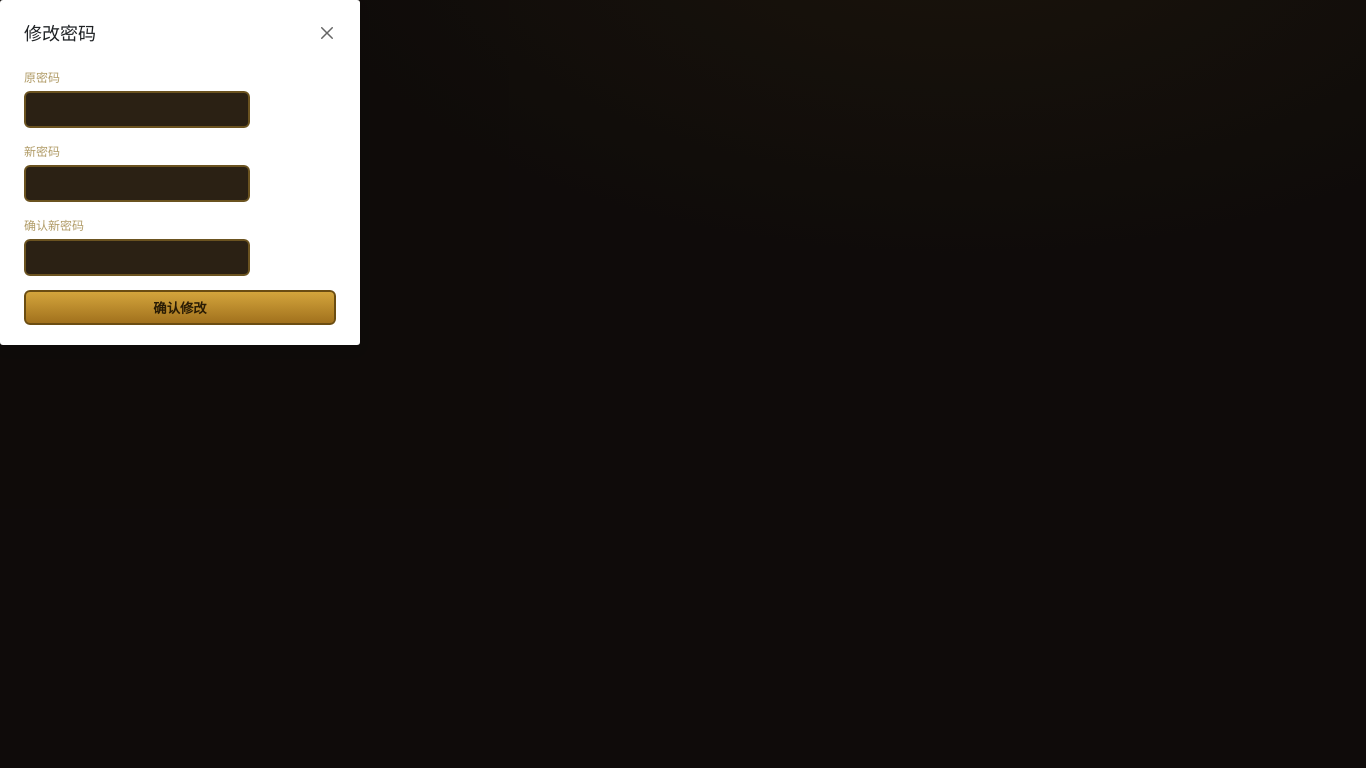
Scenario: ChangePasswordModal › 新密码过短不调接口并显示错误
Type "secret1" into the password field below "原密码". click: (137, 110)
box: [24,91,250,128]
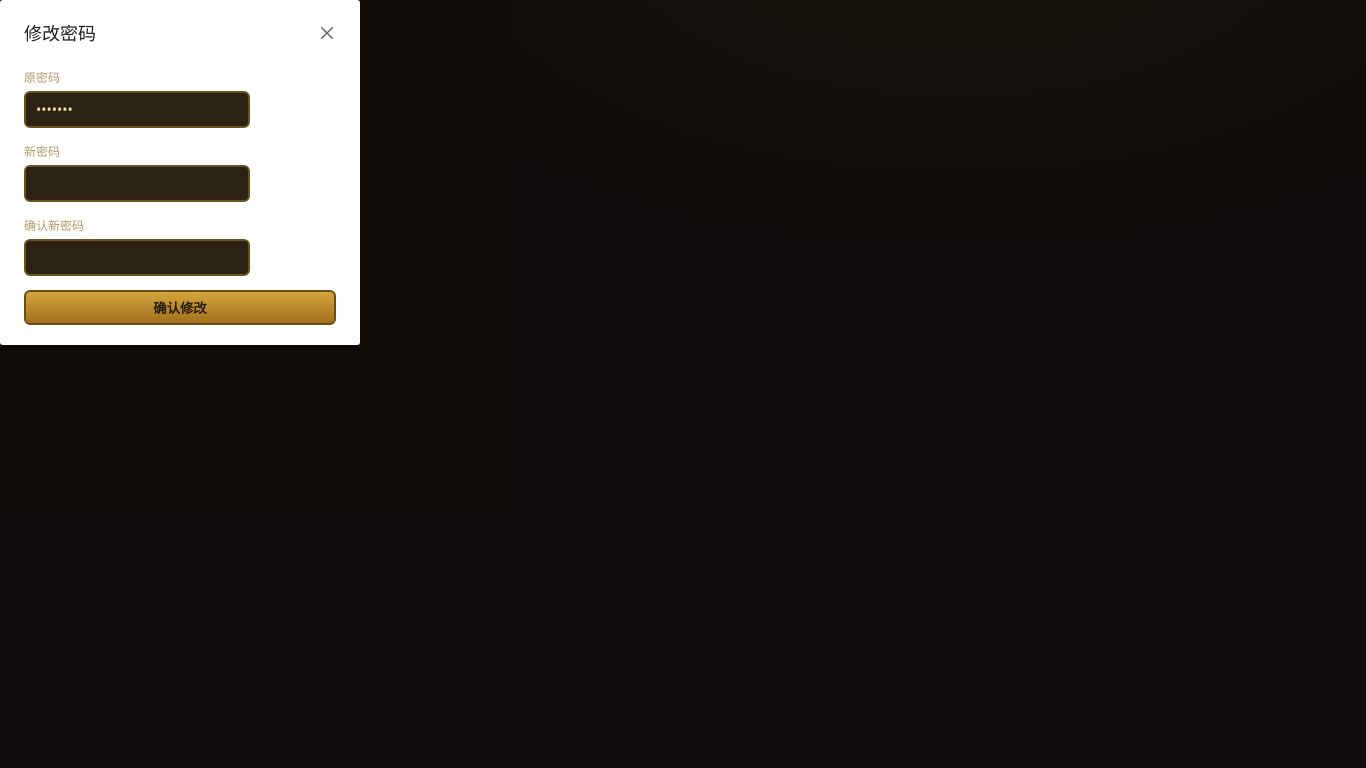
Type "123" into the 2nd password field. click: (137, 184)
box: [24,165,250,202]
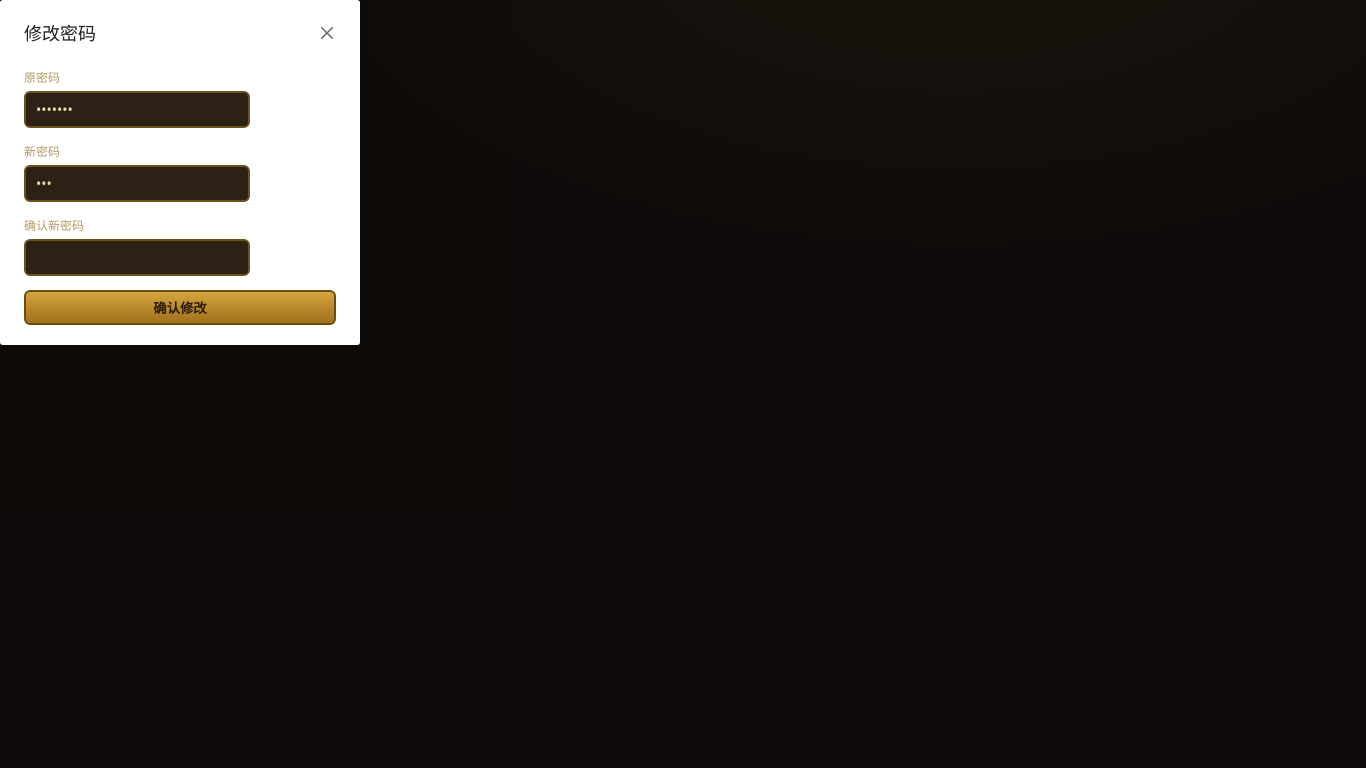
Type "123" into the password field below "确认新密码". click: (137, 258)
box: [24,239,250,276]
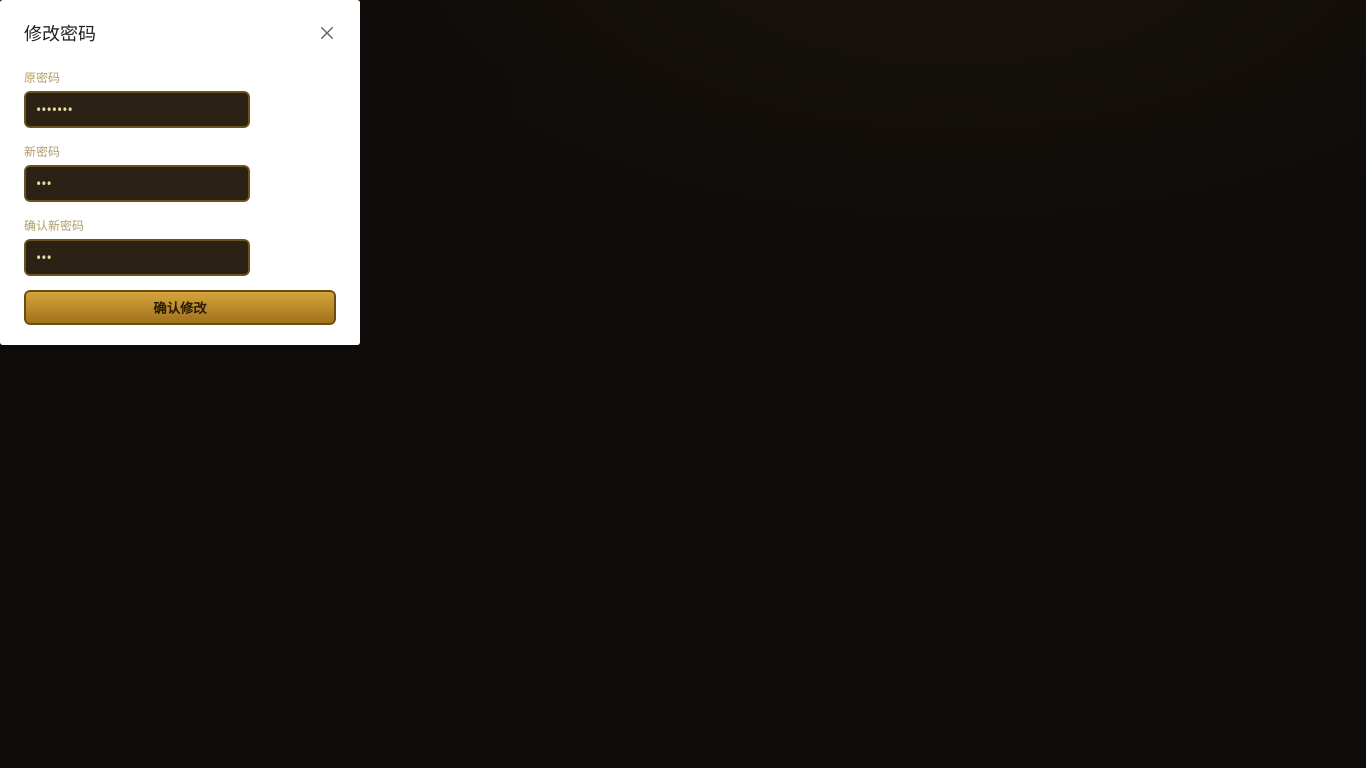
Click the button "确认修改". click: (180, 308)
box: [24,290,336,325]
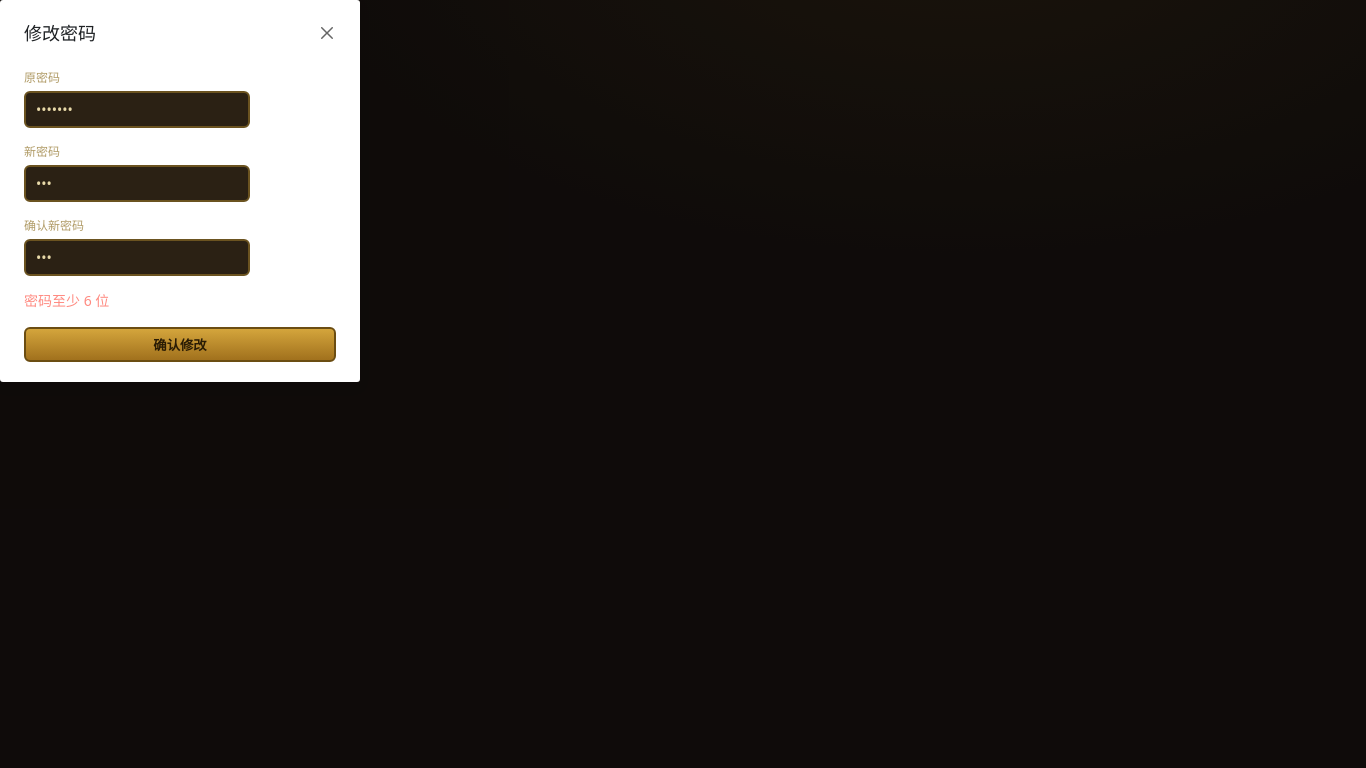
Check: the text "密码至少 6 位" is shown, box [24,291,109,310]
